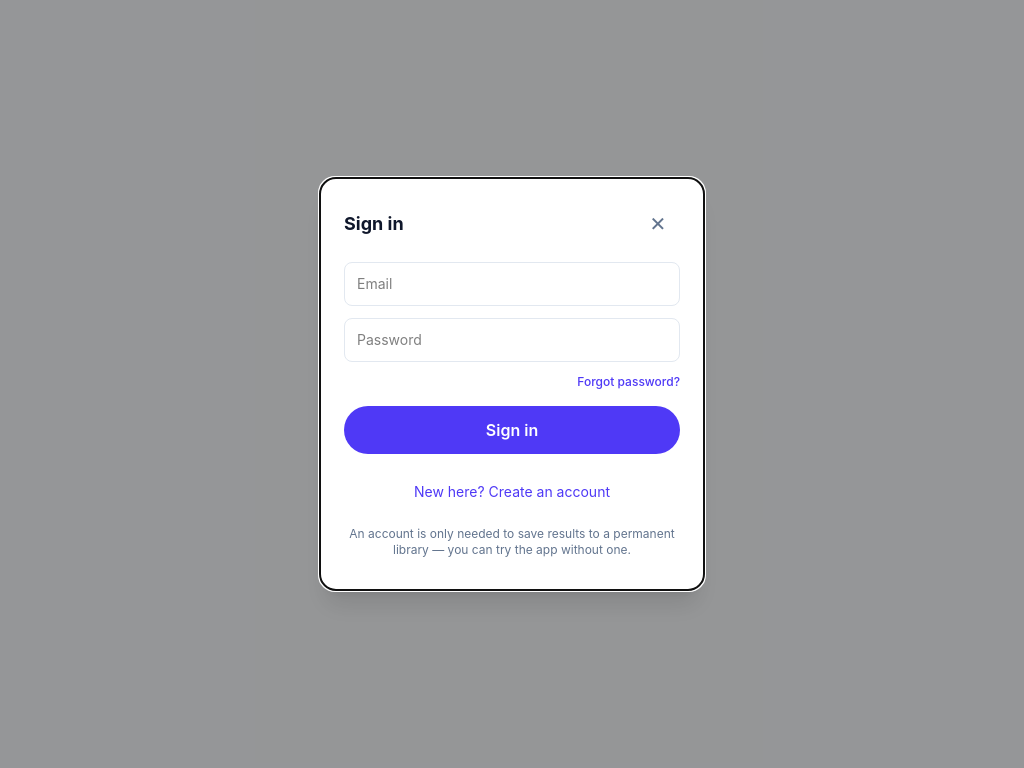
AuthModal — forgot password › switches to the forgot-password form, which asks for email only (no password field)
Click the button "Forgot password?". click: [629, 382]
box: top-left (577, 374), bottom-right (680, 390)
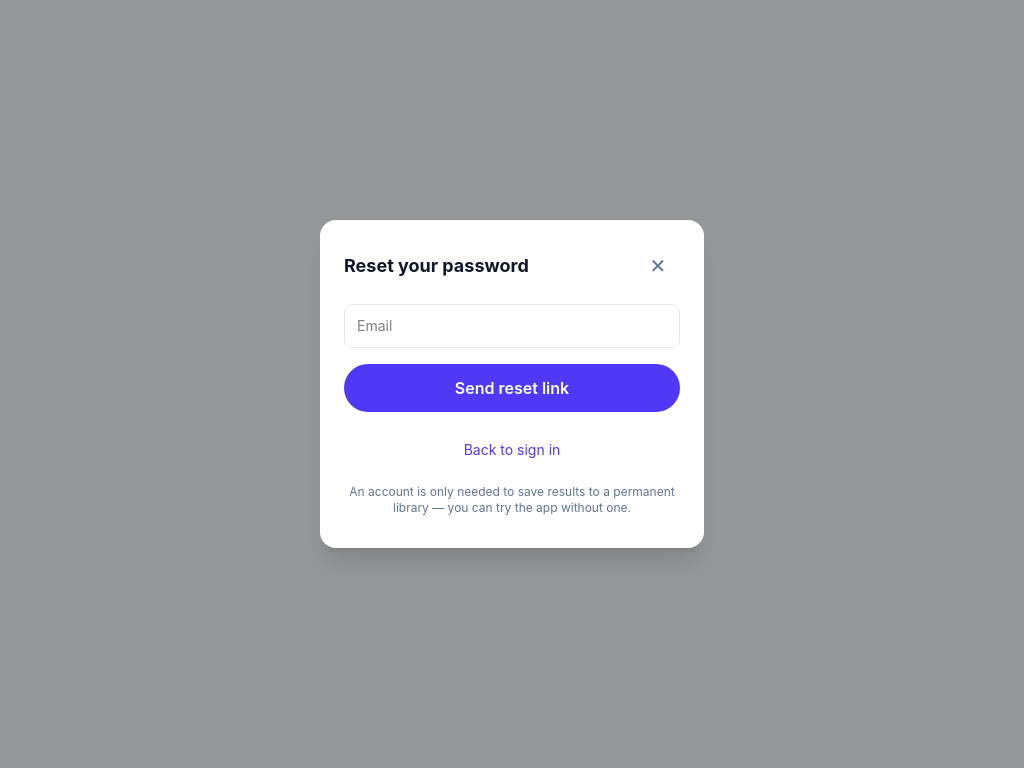
Expected: the field with placeholder "Email" is shown, top-left (344, 304), bottom-right (680, 348)
Result: the heading "Reset your password" is shown at top-left (344, 252), bottom-right (529, 280)
